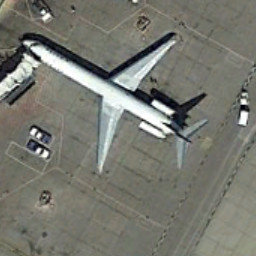Airplane: (8, 21, 220, 192)
